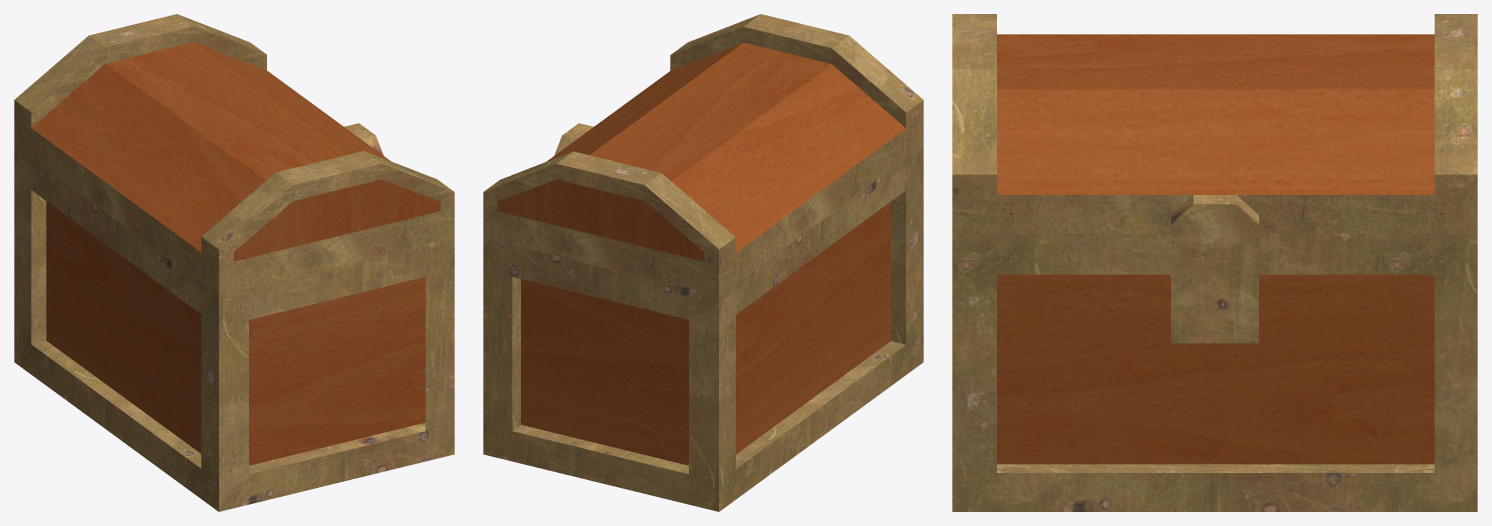
Rendered from chest.gltf.
3 views of the same model, side by side, from view 1: azimuth 30°, elevation 25°; view 2: azimuth 150°, elevation 25°; view 3: azimuth 270°, elevation 25° (orthographic). The views are drawn at different scales.
Parts seen in each view (by area): view 1: box, Lid; view 2: box, Lid; view 3: box, Lid.
Boxes of the visible parts, bbox=[...] form: box: bbox=[14, 146, 454, 511]; Lid: bbox=[14, 14, 454, 295]; box: bbox=[483, 146, 923, 511]; Lid: bbox=[483, 14, 923, 295]; box: bbox=[952, 234, 1477, 511]; Lid: bbox=[952, 14, 1477, 243].
Size of the model in its own units: 0.432 by 0.508 by 0.61.
3 materials, 3 textured.
